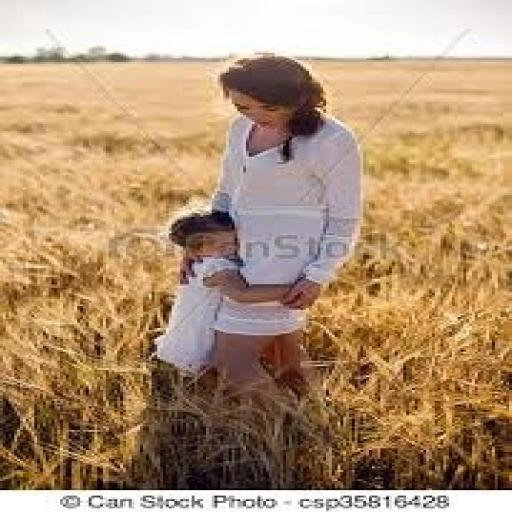hugging: (152, 53, 369, 403), (152, 206, 318, 397)
